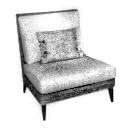chair_success: (7, 8, 121, 122)
